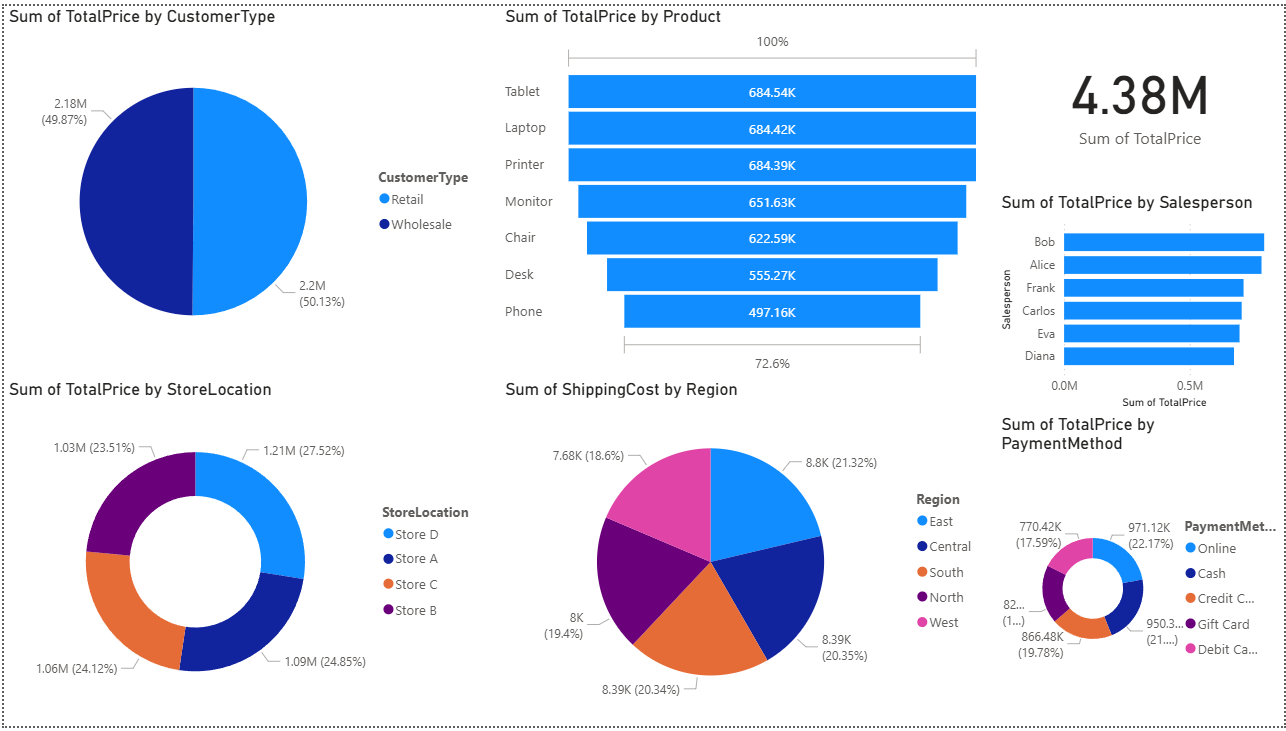

The page's visual inventory and layout, read from the dashboard file:
{"tool":"powerbi","page":{"name":"Page 1","canvas":[1280,720],"ordinal":0},"visuals":[{"type":"pieChart","fields":{"Category":["Sheet1.CustomerType"],"Y":["Sheet1.TotalPrice"]},"box":[0,0,486.2,372.3],"z":0},{"type":"donutChart","fields":{"Category":["Sheet1.StoreLocation"],"Y":["Sheet1.TotalPrice"]},"box":[0,372.3,486.2,347.7],"z":1},{"type":"funnel","fields":{"Category":["Sheet1.Product"],"Y":["Sheet1.TotalPrice"]},"box":[496,0,486,372],"z":2},{"type":"pieChart","fields":{"Category":["Sheet1.Region"],"Y":["Sheet1.ShippingCost"]},"box":[496,372,486,348],"z":3},{"type":"card","fields":{"Values":["Sheet1.TotalPrice"]},"box":[992.3,0,287.7,186.2],"z":4},{"type":"clusteredBarChart","fields":{"Category":["Sheet1.Salesperson"],"Y":["Sheet1.TotalPrice"]},"box":[992.3,186.2,287.7,221.5],"z":5},{"type":"donutChart","fields":{"Category":["Sheet1.PaymentMethod"],"Y":["Sheet1.TotalPrice"]},"box":[992,408,288,312],"z":6}]}

Visuals, with their boxes in screenshot pixels (x1, y1, x2, y2), scaled from the page's 1280x720 canvas onto the 1286x731 screenshot:
pieChart - Sheet1.CustomerType x Sheet1.TotalPrice: [0, 0, 488, 378]
donutChart - Sheet1.StoreLocation x Sheet1.TotalPrice: [0, 378, 488, 730]
funnel - Sheet1.Product x Sheet1.TotalPrice: [498, 0, 987, 378]
pieChart - Sheet1.Region x Sheet1.ShippingCost: [498, 378, 987, 730]
card - Sheet1.TotalPrice: [997, 0, 1285, 189]
clusteredBarChart - Sheet1.Salesperson x Sheet1.TotalPrice: [997, 189, 1285, 414]
donutChart - Sheet1.PaymentMethod x Sheet1.TotalPrice: [997, 414, 1285, 730]
